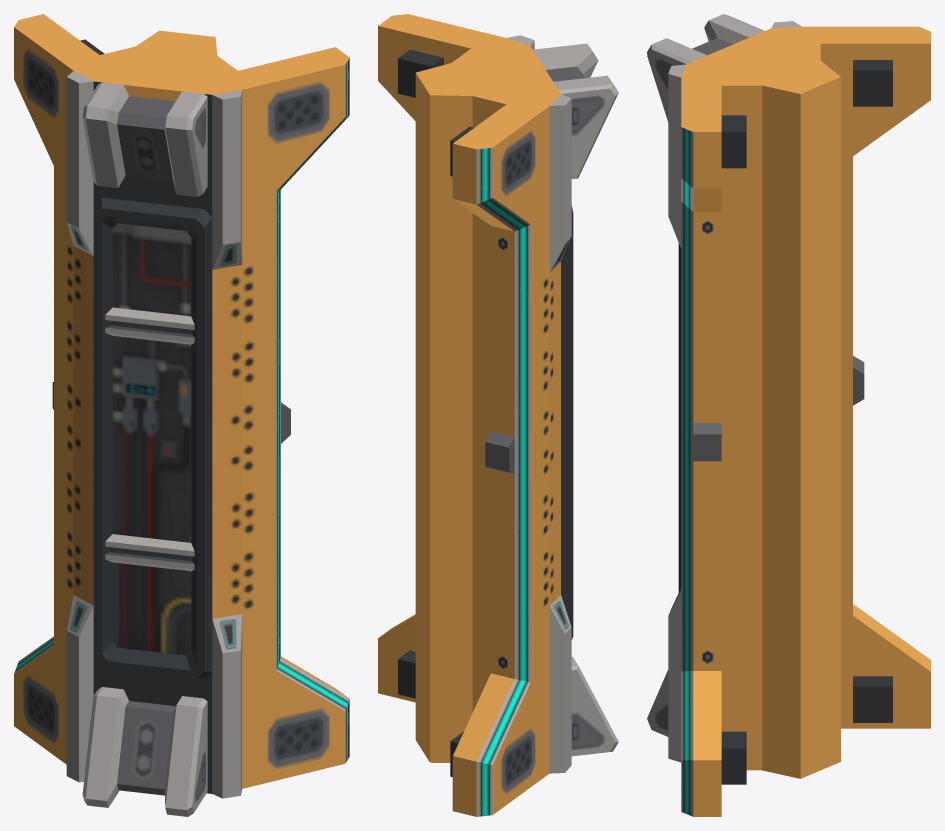
File: SM_Bld_Corner_Trim_03.fbx
3 views of the same model, side by side, from view 1: azimuth 30°, elevation 25°; view 2: azimuth 150°, elevation 25°; view 3: azimuth 270°, elevation 25° (orthographic). The views are drawn at different scales.
Visible parts, largest first — view 1: SM_Bld_Corner_Trim_03; view 2: SM_Bld_Corner_Trim_03; view 3: SM_Bld_Corner_Trim_03.
Boxes of the visible parts, bbox=[...] form: SM_Bld_Corner_Trim_03: bbox=[14, 14, 349, 816]; SM_Bld_Corner_Trim_03: bbox=[378, 14, 618, 816]; SM_Bld_Corner_Trim_03: bbox=[647, 14, 930, 816].
Bounding box in the file's own units: 113 × 300 × 113.
